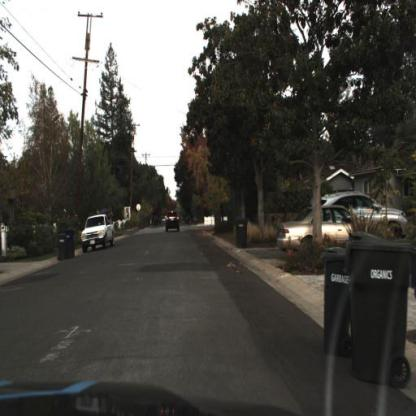car: (276, 204, 392, 256), (313, 191, 412, 240), (279, 200, 371, 250), (71, 204, 122, 263), (77, 211, 118, 254), (164, 210, 183, 235)
